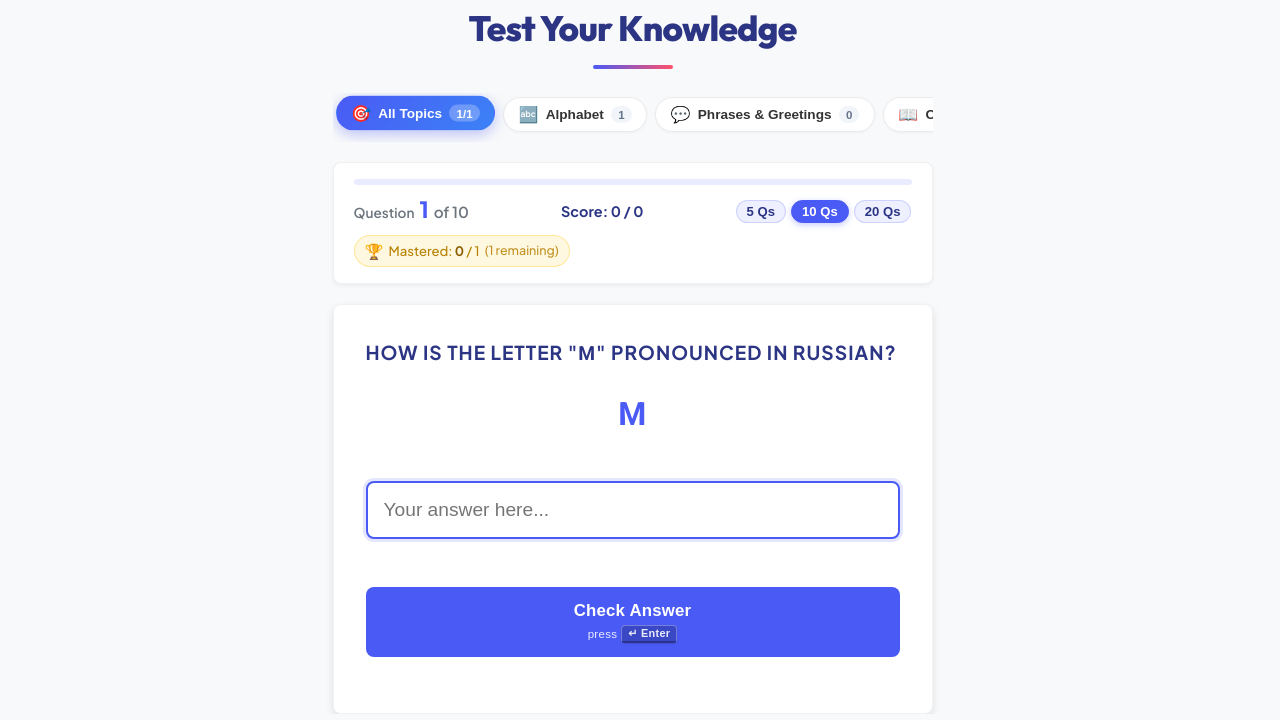
Scenario: Quiz Component - Session Goals & Mastery Filtering › does NOT accept digits like 1 for alphabet pronunciation questions like M
Step 1. Type "1" into the field → (632, 510), box [366,481,900,539]
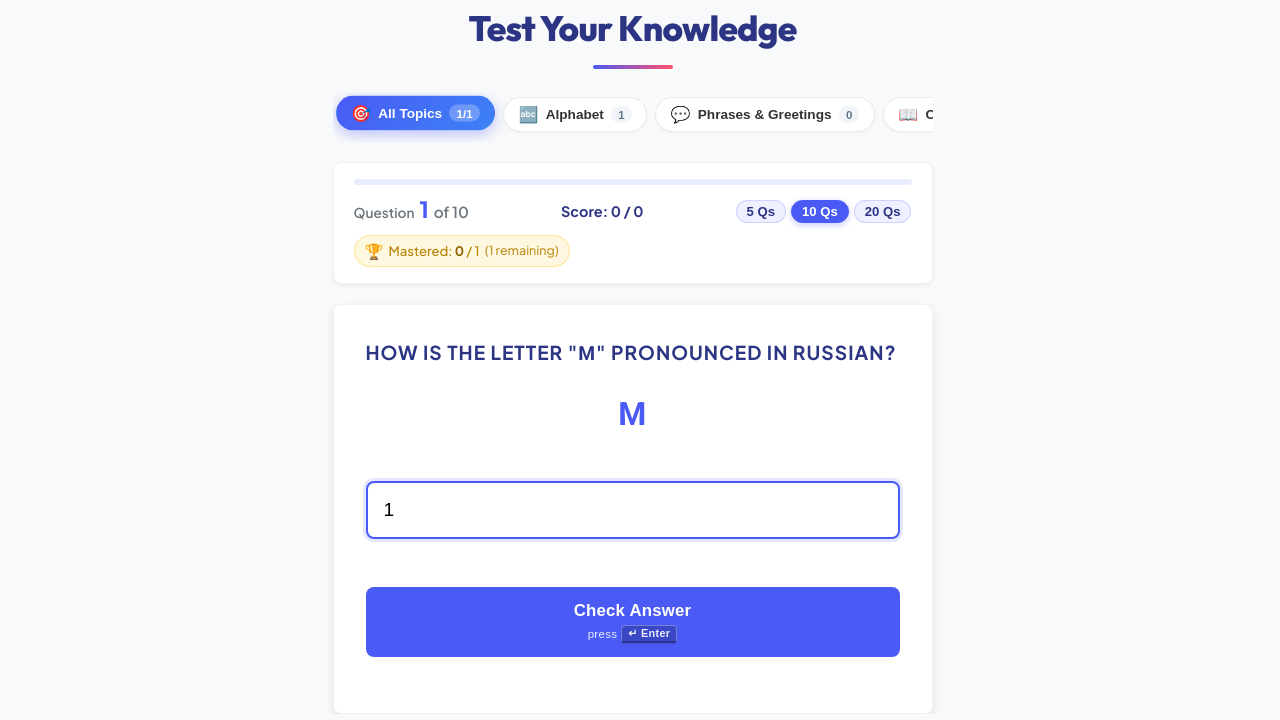
Step 2. Click the button "Check Answer press ↵ Enter" → click(632, 622), box [366,587,900,657]
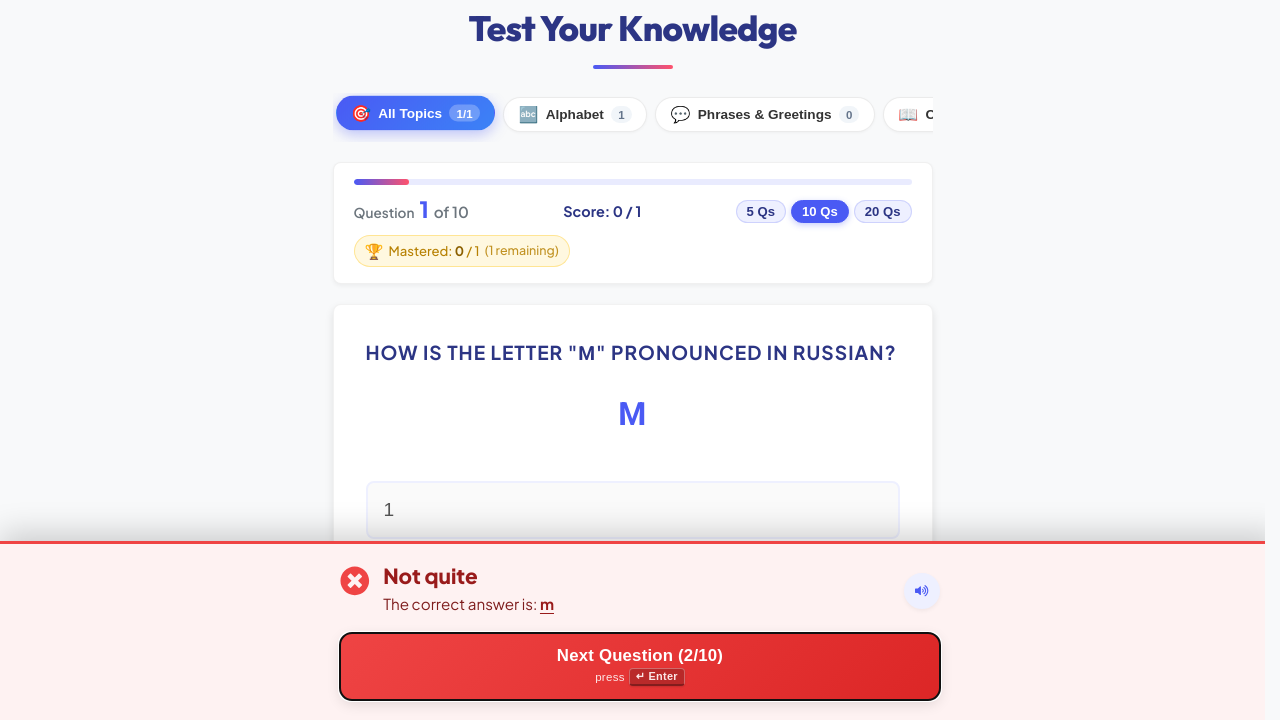
Expected: the text "Not quite" is shown, [383,562,478,589]
